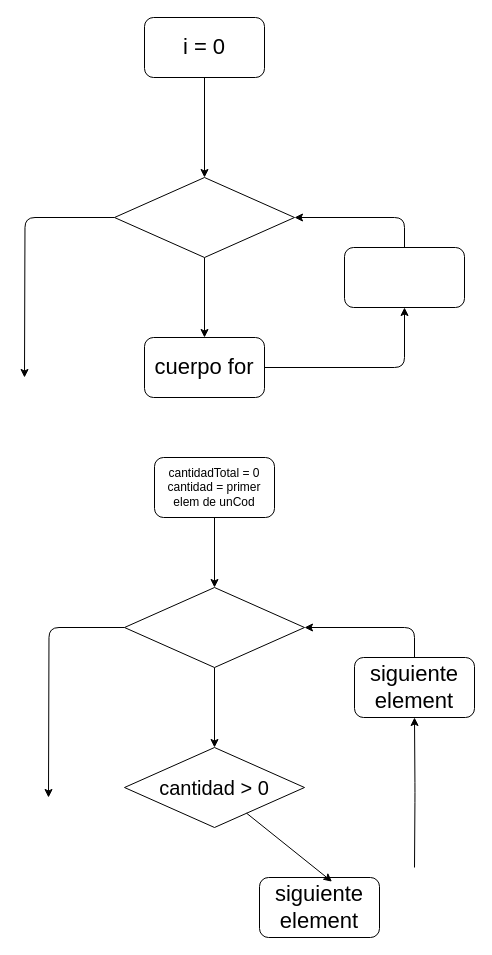
Some shapes in this 492 by 955 pixel diagram are drawn without their labels. The shapes that lost their labels are listed below. From the top down, each one's centre as x and y in pixels, then its label:
At (204,217): "i < length".
At (404,277): "i++".
At (214,627): "quedan elementos?".
